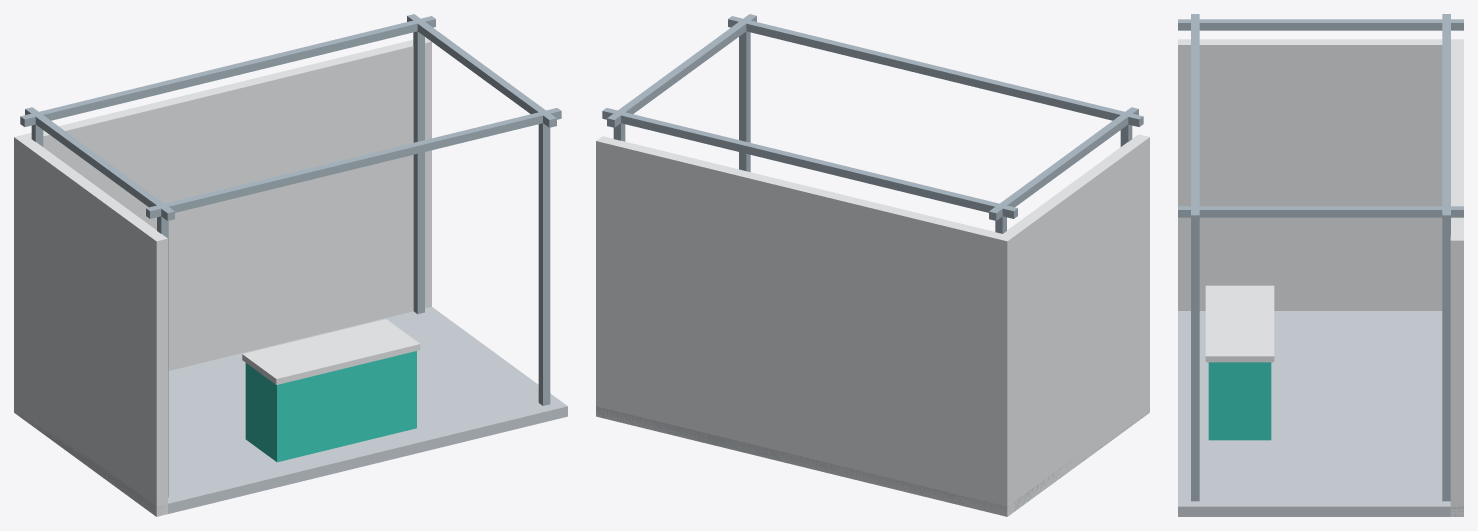
3 views of the same model, side by side, from view 1: azimuth 30°, elevation 25°; view 2: azimuth 150°, elevation 25°; view 3: azimuth 270°, elevation 25° (orthographic).
Visible parts, largest first — view 1: Exhibition Booth Concept; view 2: Exhibition Booth Concept; view 3: Exhibition Booth Concept.
Boxes of the visible parts, box(x1,y1,x2,y2) form: Exhibition Booth Concept: box(14, 14, 567, 516); Exhibition Booth Concept: box(596, 14, 1149, 516); Exhibition Booth Concept: box(1178, 14, 1463, 516).
Bounding box in the file's own units: 5 × 3.49 × 3.
